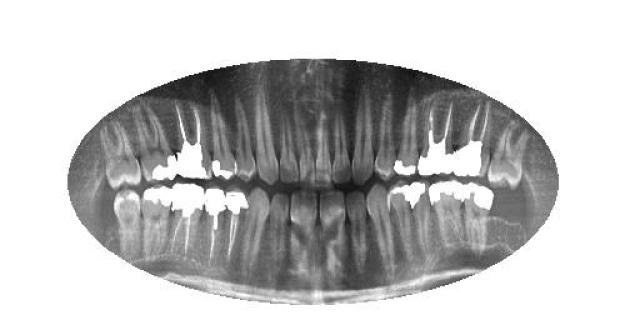Fillings: (132, 104, 178, 181), (430, 178, 465, 258), (208, 98, 238, 184), (138, 185, 172, 260), (462, 182, 493, 260), (394, 88, 420, 180), (389, 179, 411, 260), (410, 180, 430, 259)
Implant: (172, 105, 212, 183), (451, 102, 491, 178), (168, 181, 204, 261), (419, 95, 449, 176), (225, 190, 250, 272), (200, 188, 225, 268)
